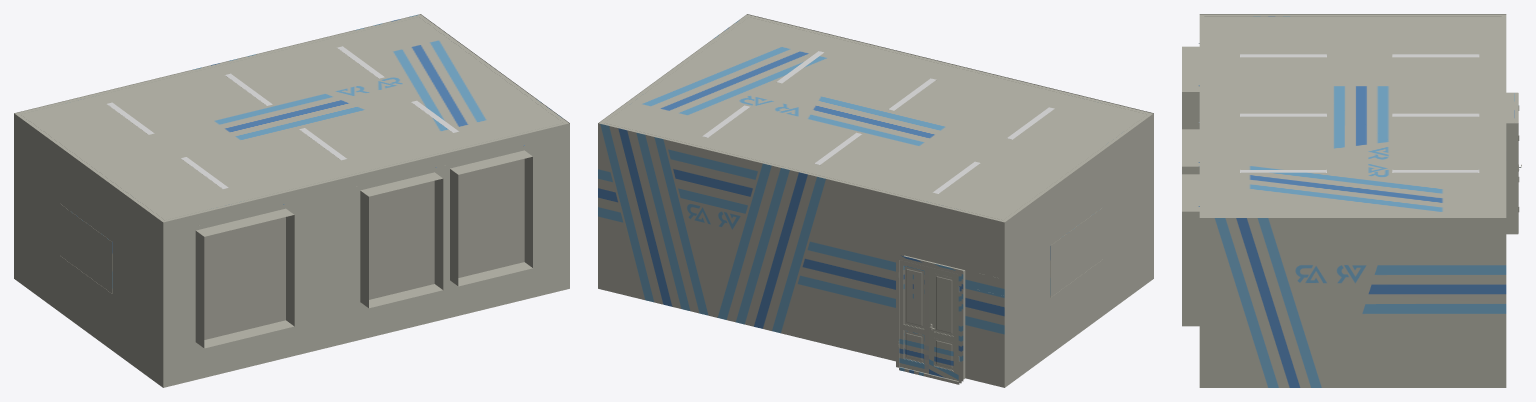
File: Auditory251.fbx
3 renders of one model, left to right at view 1: azimuth 30°, elevation 25°; view 2: azimuth 150°, elevation 25°; view 3: azimuth 270°, elevation 25°, orthographic. The views are drawn at different scales.
Parts seen in each view (by area): view 1: SM_Walls_M1, SM_Ceiling_M2, SM_Jalousie_M4.001, SM_Jalousie_M4.003, SM_Jalousie_M4.002; view 2: SM_Walls_M1, SM_Ceiling_M2, SM_ClassDoorA_M4, SM_ClassDoorB_M4, SM_ClassDoorFrame_M4; view 3: SM_Ceiling_M2, SM_Walls_M1, SM_Lamp.002, SM_Lamp.004, SM_Lamp.001, SM_Lamp.003, SM_TopPlinth_M2.
Boxes of the visible parts, x1,y1,x2,y2 form: SM_Walls_M1: [14, 14, 569, 387]; SM_Ceiling_M2: [15, 14, 568, 222]; SM_Jalousie_M4.001: [204, 217, 285, 339]; SM_Jalousie_M4.003: [458, 159, 524, 277]; SM_Jalousie_M4.002: [369, 180, 434, 299]; SM_Walls_M1: [598, 14, 1153, 387]; SM_Ceiling_M2: [599, 14, 1152, 222]; SM_ClassDoorA_M4: [929, 267, 958, 380]; SM_ClassDoorB_M4: [899, 260, 928, 373]; SM_ClassDoorFrame_M4: [896, 255, 963, 384]; SM_Ceiling_M2: [1199, 14, 1506, 217]; SM_Walls_M1: [1182, 14, 1518, 387]; SM_Lamp.002: [1392, 54, 1479, 57]; SM_Lamp.004: [1392, 113, 1479, 116]; SM_Lamp.001: [1240, 54, 1326, 57]; SM_Lamp.003: [1240, 113, 1326, 116]; SM_TopPlinth_M2: [1204, 16, 1501, 16].
Size of the model in its own units: 900 by 355 by 634.
